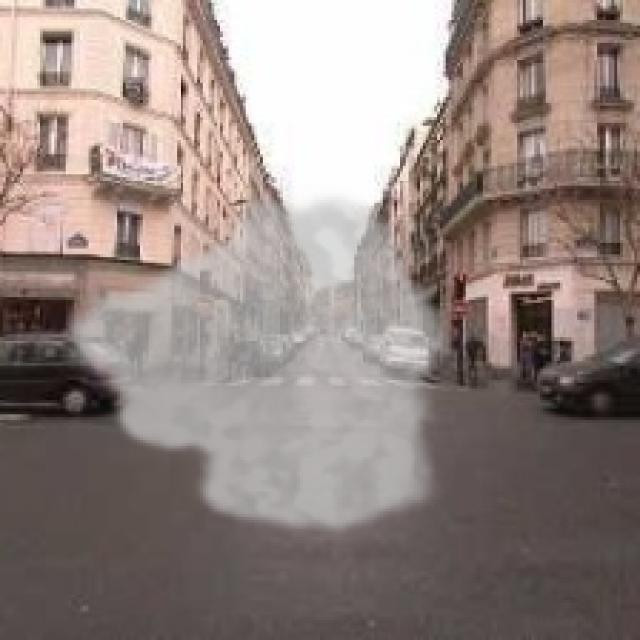Smoke: (59, 183, 452, 540)
